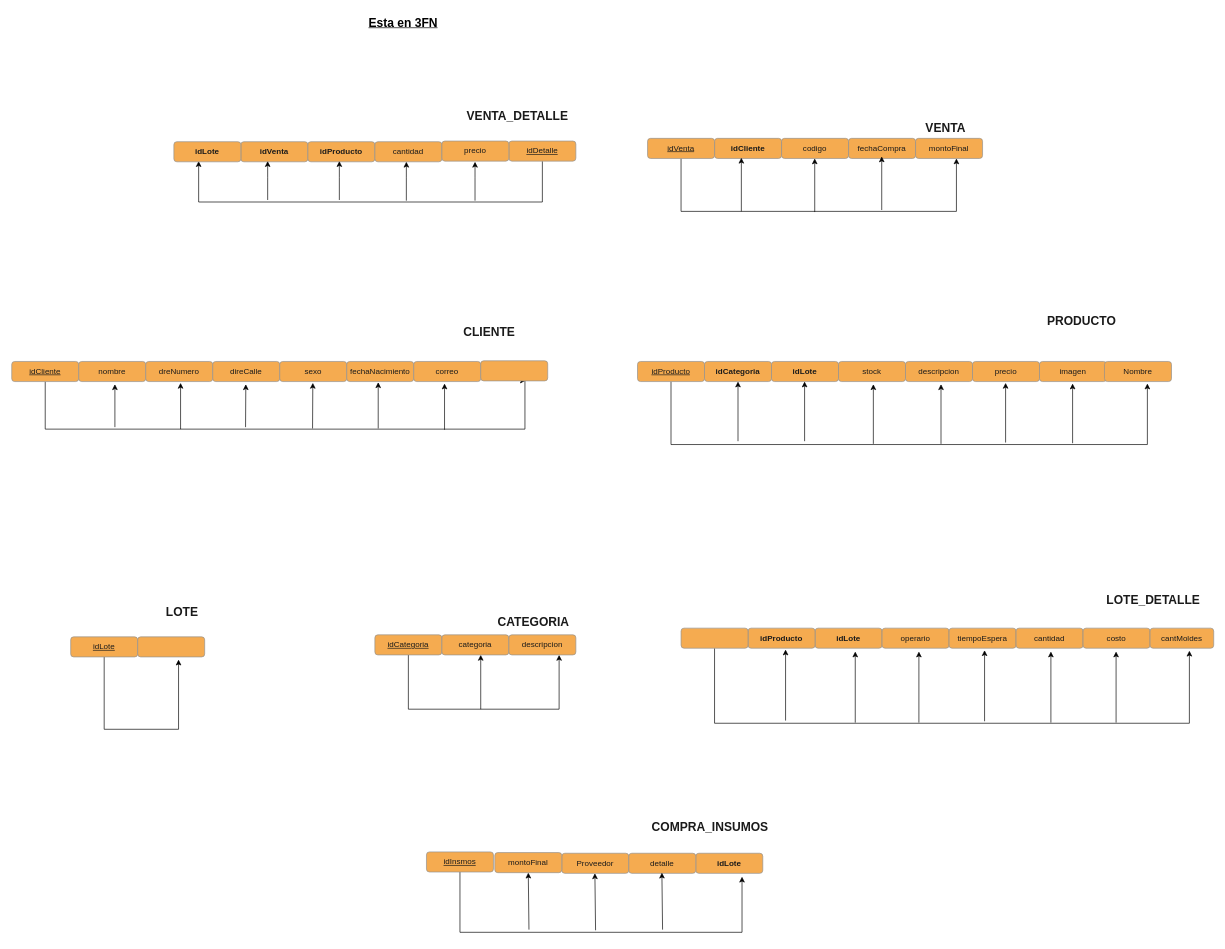
The diagram is 1225 pixels wide and 949 high, and some of its shapes have lost their labels. Each missing label, with the centre of its shape:
fechaIngreso: (171,646)
loteDetalle: (714,637)
telefono: (514,370)
